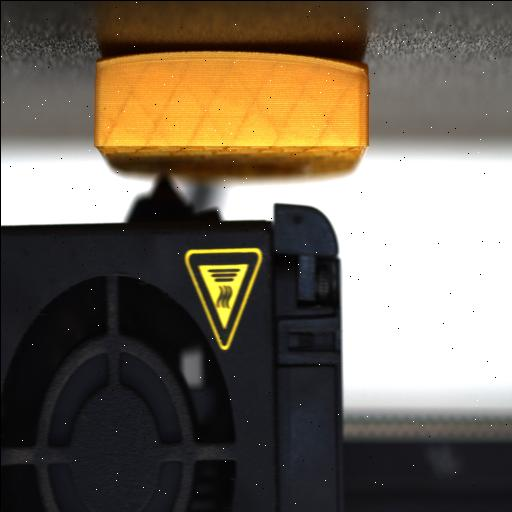warp: (253, 43, 372, 80), (91, 42, 209, 72)
